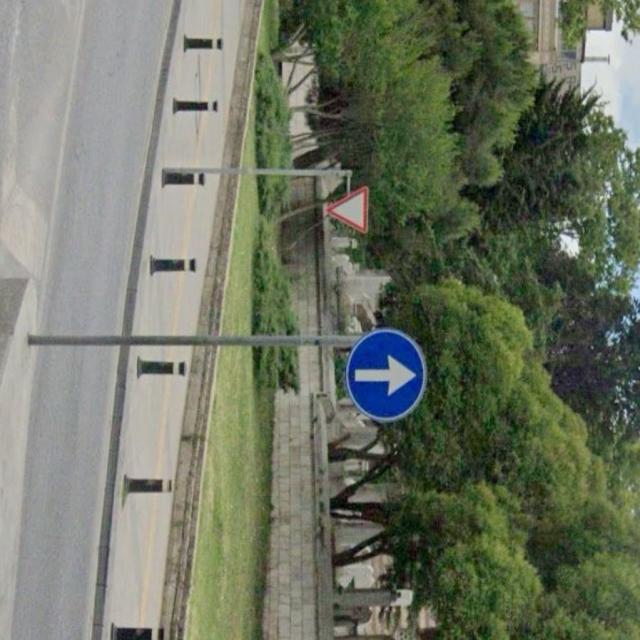Turn Right: (344, 328, 439, 421)
